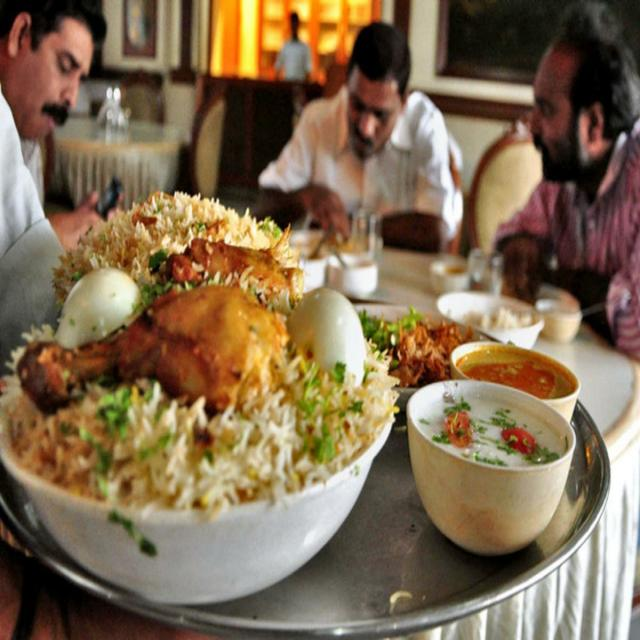Biryani: (1, 279, 395, 510)
